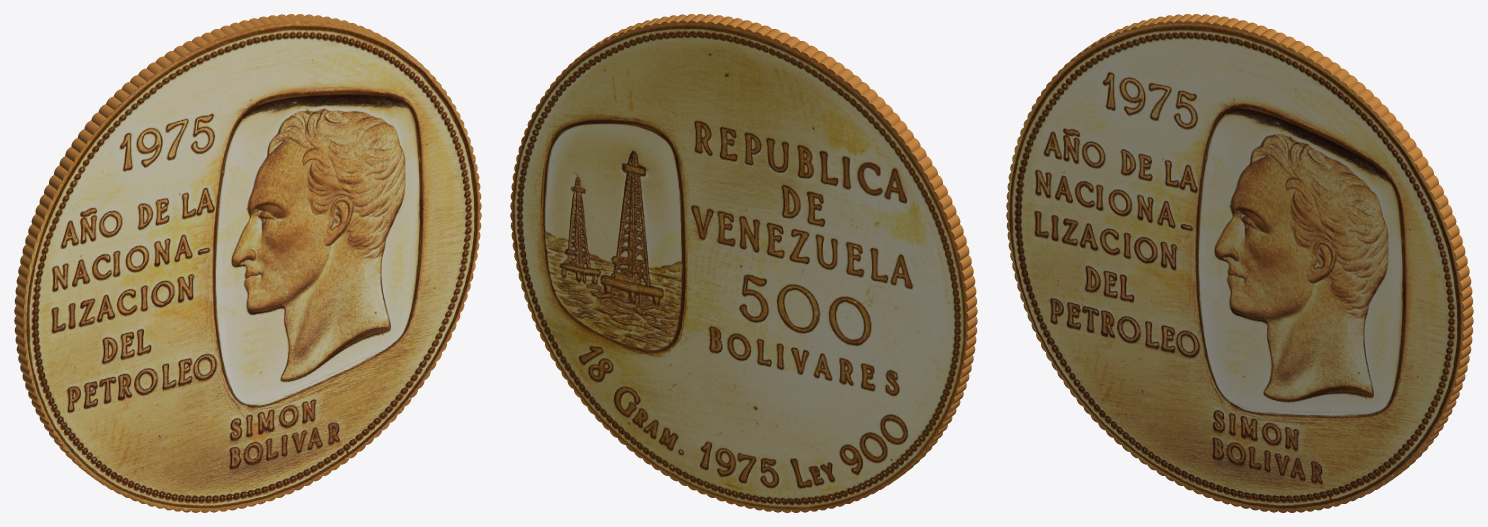
Rendered from capitulo1-monedamodelo.glb.
3 views of the same model, side by side, from view 1: azimuth 30°, elevation 25°; view 2: azimuth 150°, elevation 25°; view 3: azimuth 330°, elevation 25° (orthographic).
Parts seen in each view (by area): view 1: Mesh_0; view 2: Mesh_0; view 3: Mesh_0.
Part boxes in pixels (left/top/right/bottom): Mesh_0: left=14, top=14, right=481, bottom=512; Mesh_0: left=510, top=14, right=977, bottom=512; Mesh_0: left=1006, top=14, right=1473, bottom=512.
Size of the model in its own units: 0.1171 by 0.1172 by 0.004.
1 material, 1 textured.
